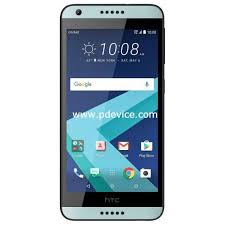htc: (57, 1, 166, 221)
